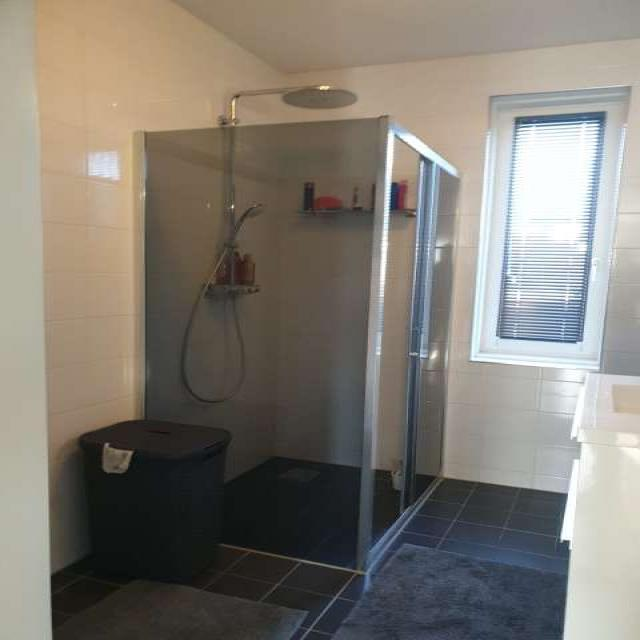douche: (138, 82, 462, 574)
wastafel: (560, 379, 640, 640), (578, 372, 640, 433)
